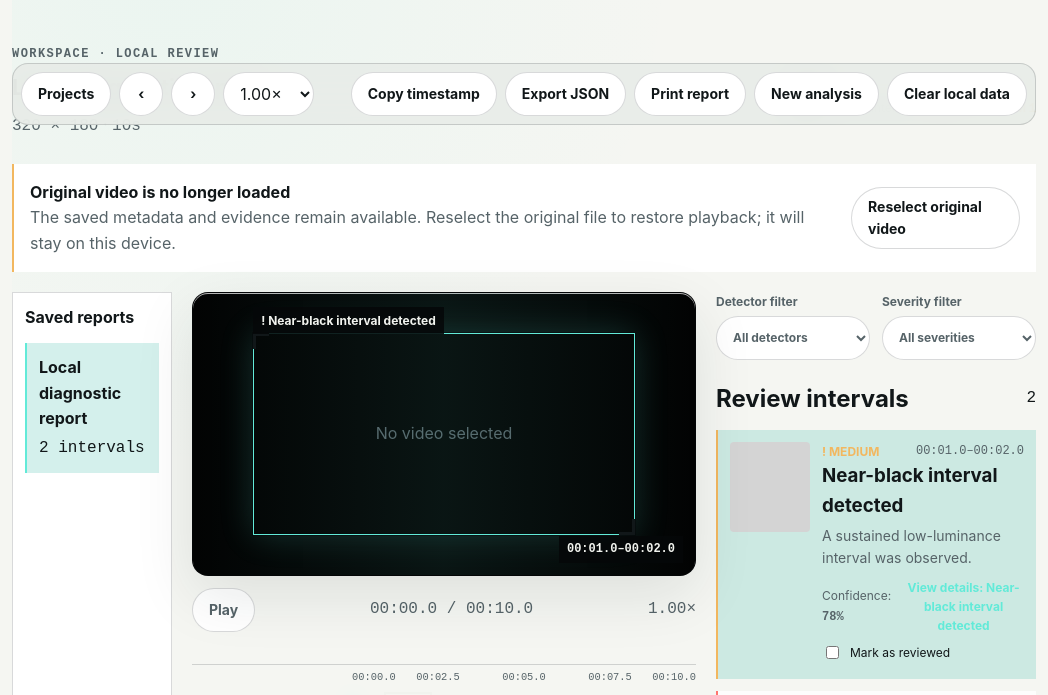
Test: workspace route › serializes reviewed-state writes and preserves newer state after an older write fails
The image size is (1048, 695).
Expected: the heading "Local diagnostic report" is shown, left=12, top=76, right=260, bottom=100
What coordinates should you click on to do the following:
click the checkbox labelled "Mark as reviewed"
I would click on:
 (832, 653)
Its box is left=826, top=646, right=839, bottom=659.
(page scrolled)
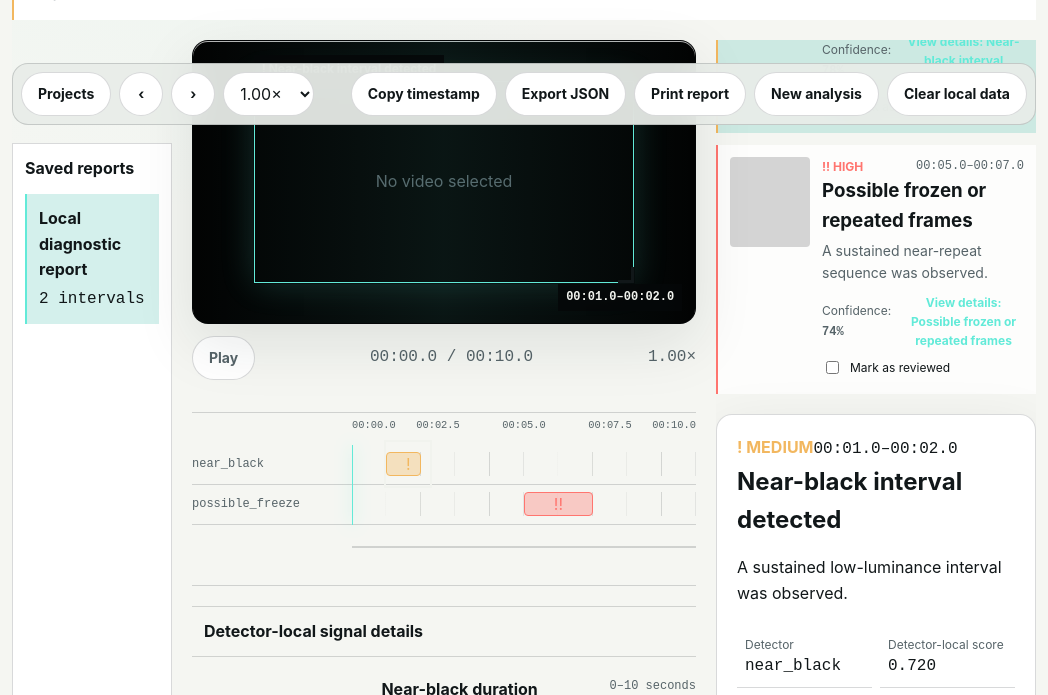
What coordinates should you click on to do the following:
click the checkbox labelled "Mark as reviewed"
I would click on:
 (832, 368)
Its box is left=826, top=362, right=839, bottom=374.
(page scrolled)
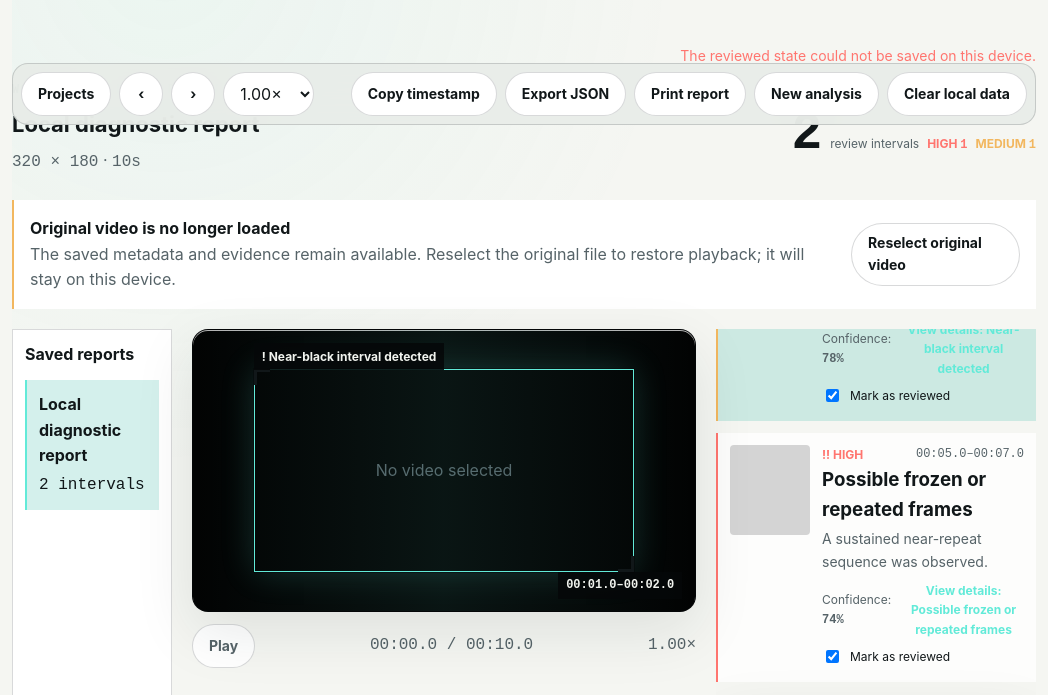
Now the checkbox labelled "Mark as reviewed" below "78" is checked, box left=826, top=389, right=839, bottom=402
Now the checkbox labelled "Mark as reviewed" below "74" is checked, box left=826, top=650, right=839, bottom=663
Now the text "The reviewed state could not be saved on this device." is shown, box left=680, top=47, right=1036, bottom=64
